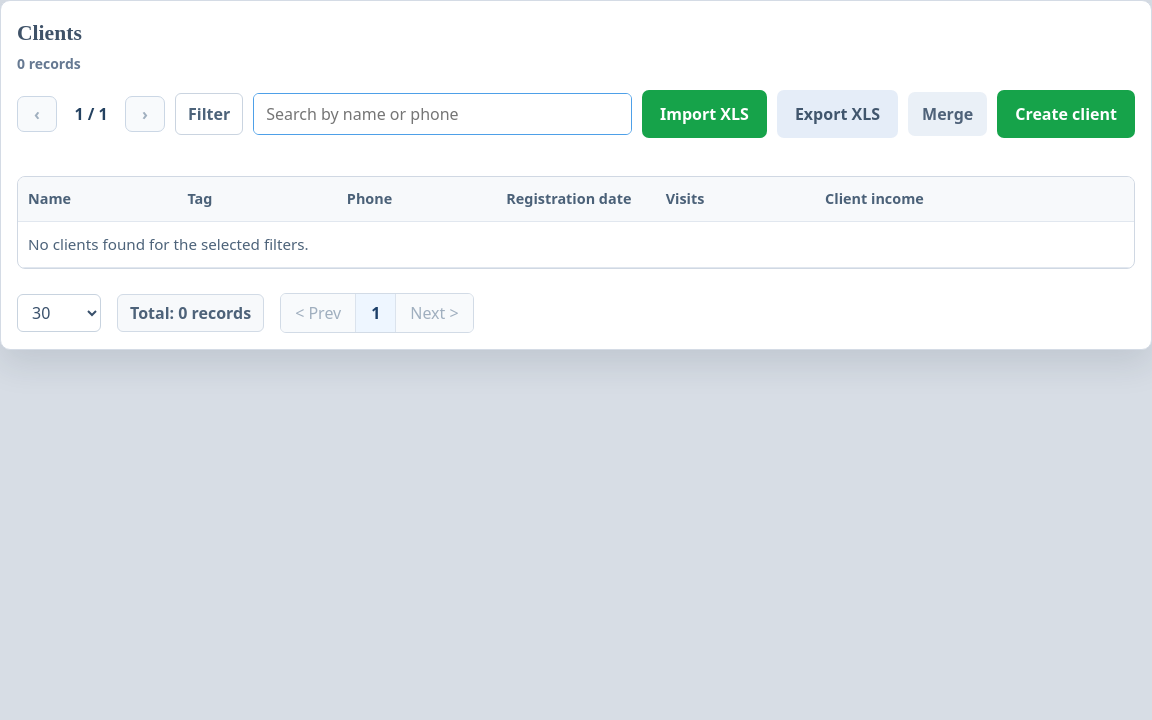
Test: ClientsWorkspace › uses one create-client form without person/company tabs
What coordinates should you click on to do the following:
click the button "Create client"
I would click on:
 (1066, 114)
Its box is [997,90,1135,138].
(page scrolled)
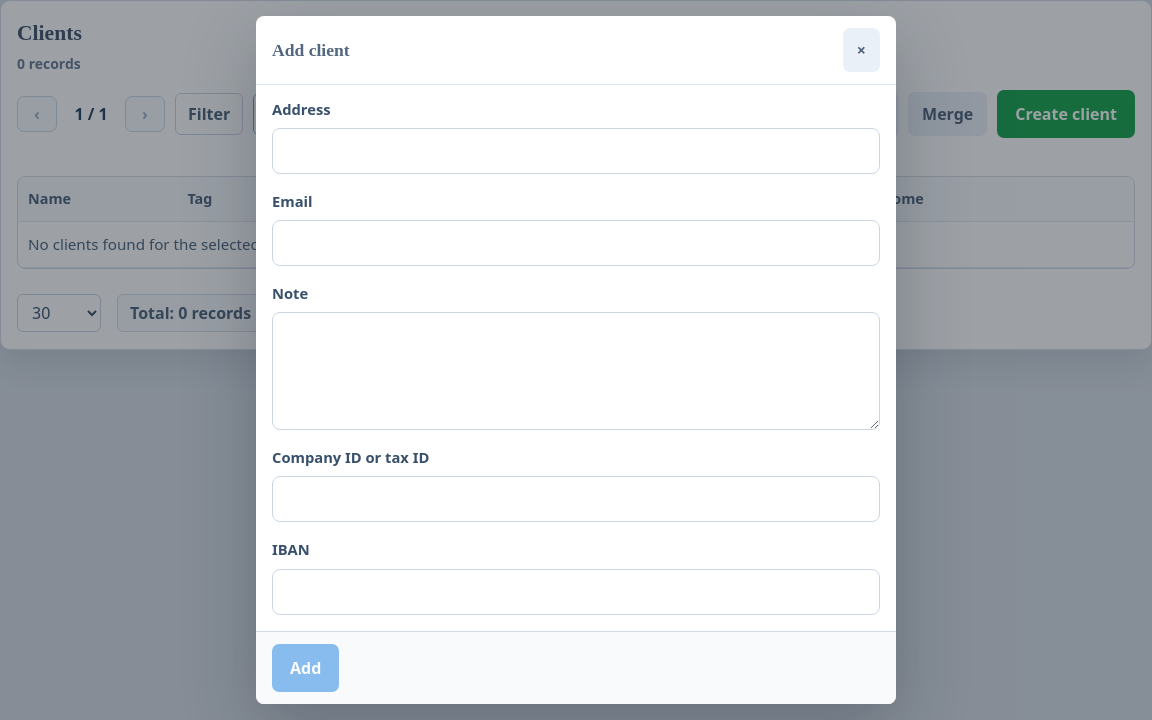
Check: the text "Company ID or tax ID" is shown, box [272,447,429,467]
Check: the text "IBAN" is shown, box [272,540,310,560]
